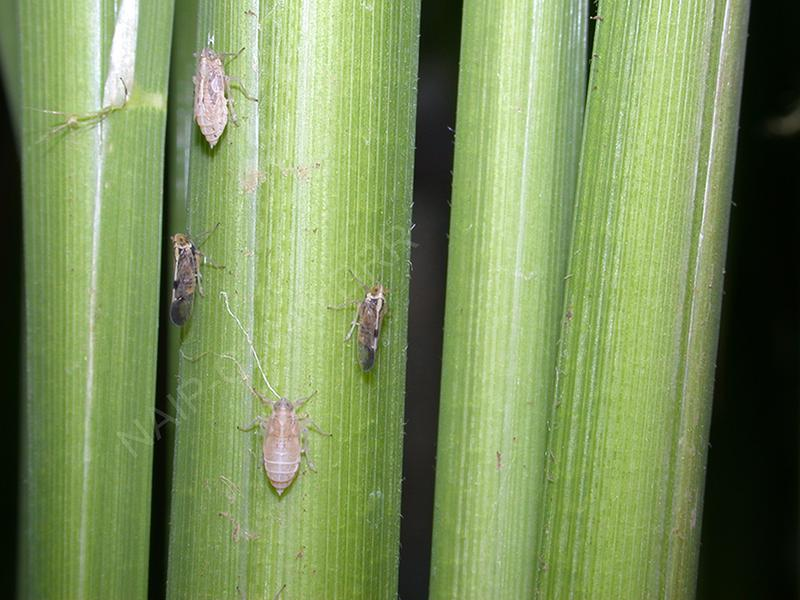White_backed_plant_hopper: (239, 395, 316, 508), (172, 40, 237, 162), (326, 275, 398, 378), (154, 231, 217, 341)
